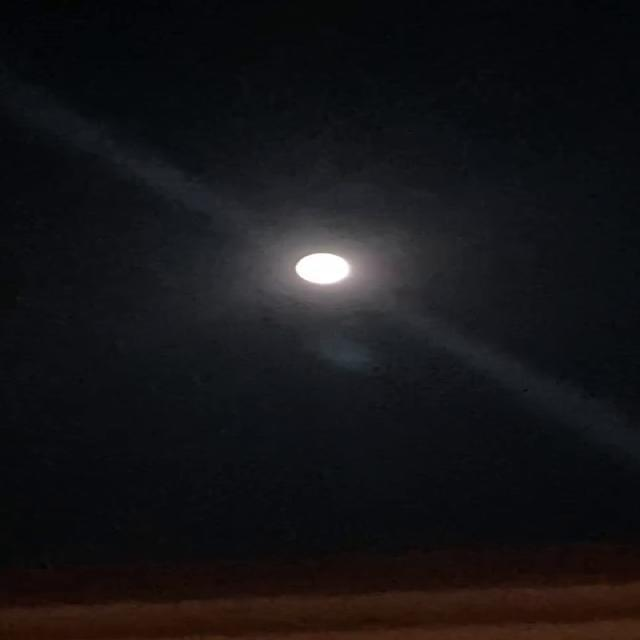moon: (296, 244, 371, 285)
